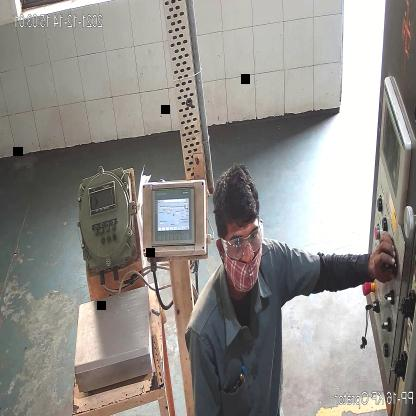goggles: (218, 227, 266, 259)
